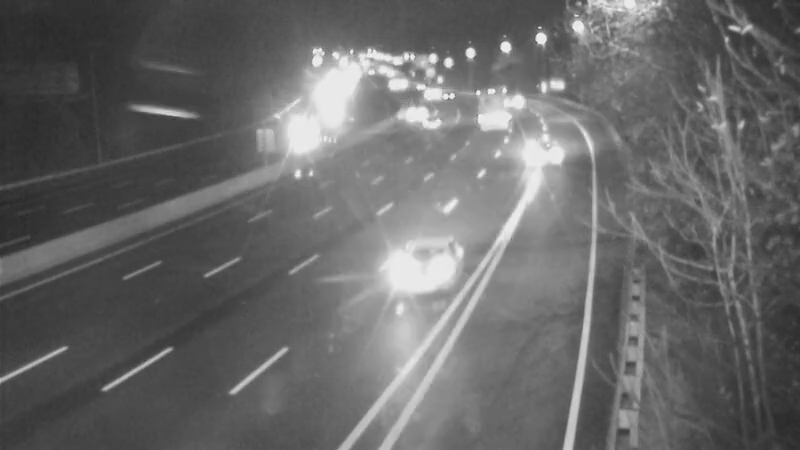vehicle: (403, 223, 483, 303), (405, 67, 455, 117), (464, 76, 514, 126), (412, 97, 462, 147), (388, 83, 438, 133), (514, 125, 564, 175), (275, 110, 325, 160)
